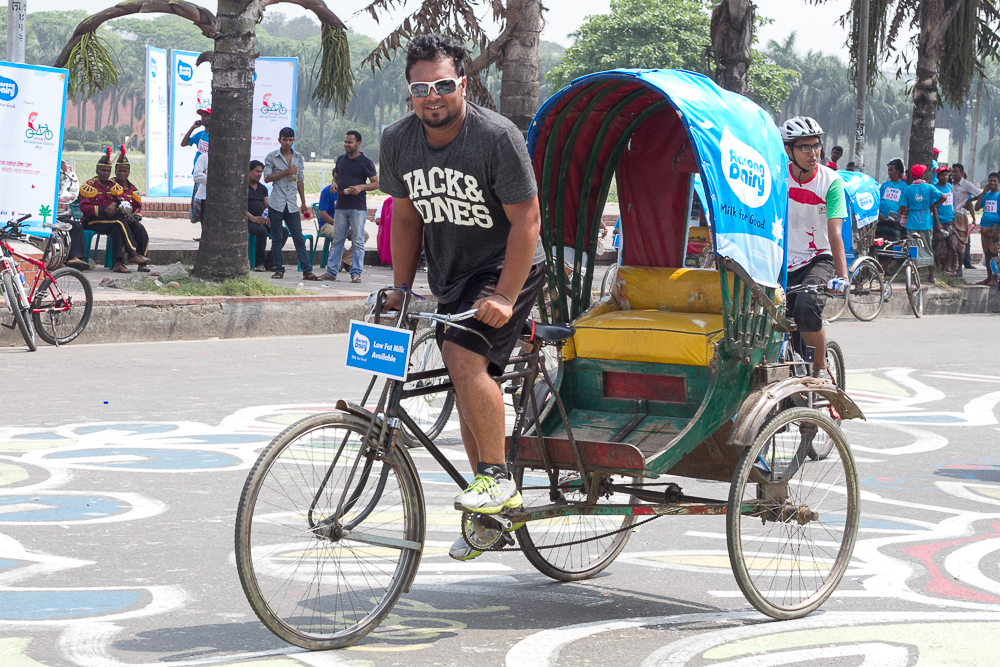Rickshaw: (248, 62, 850, 635)
